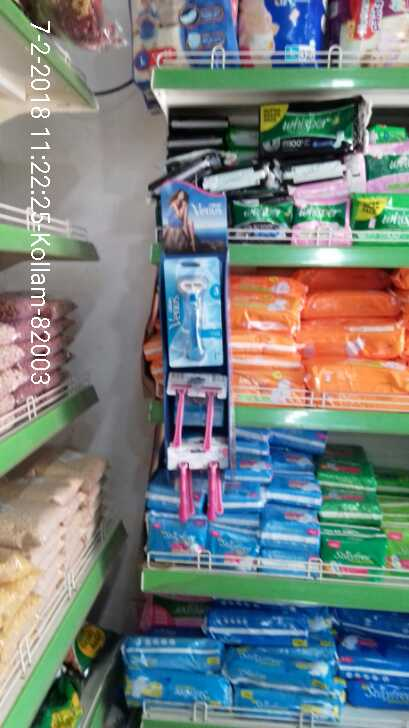beauty: (165, 253, 222, 369)
pharmacy: (254, 92, 362, 150), (219, 276, 298, 333), (229, 353, 305, 407), (288, 192, 354, 245), (230, 190, 292, 243), (350, 187, 405, 242)
